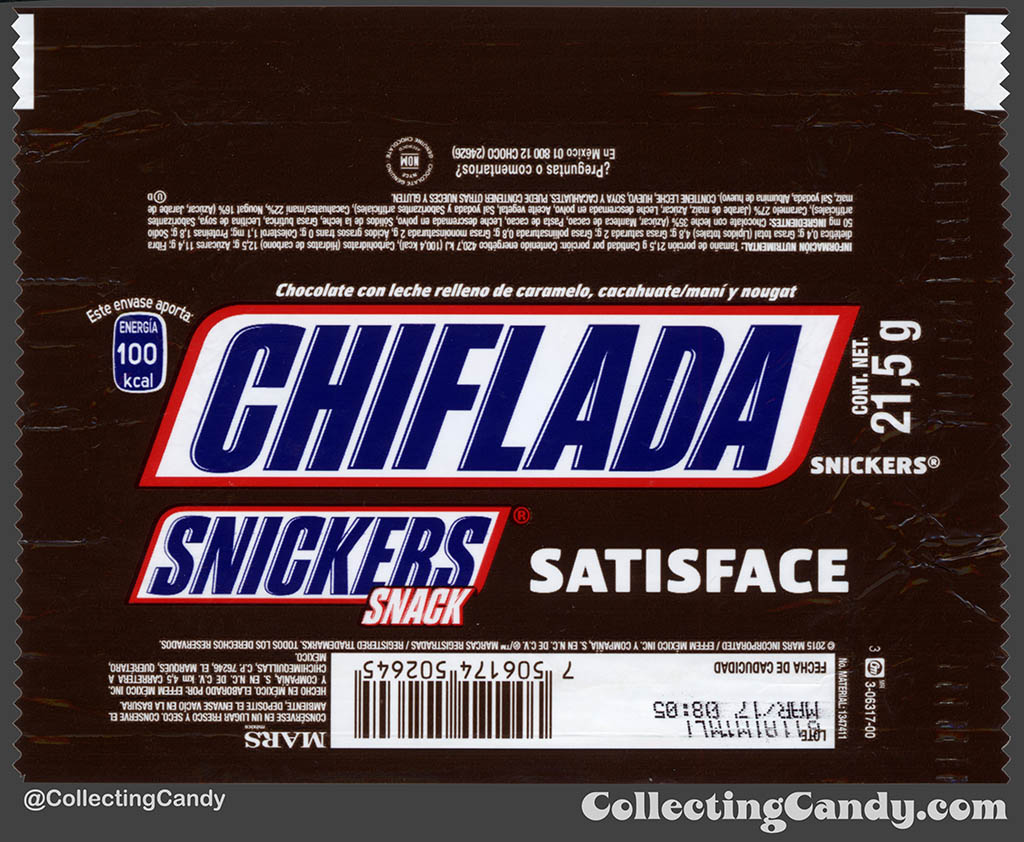snickers: (144, 513, 496, 597)
